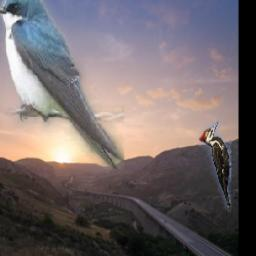Swallow: (0, 0, 124, 170)
Woodpecker: (198, 120, 231, 215)
